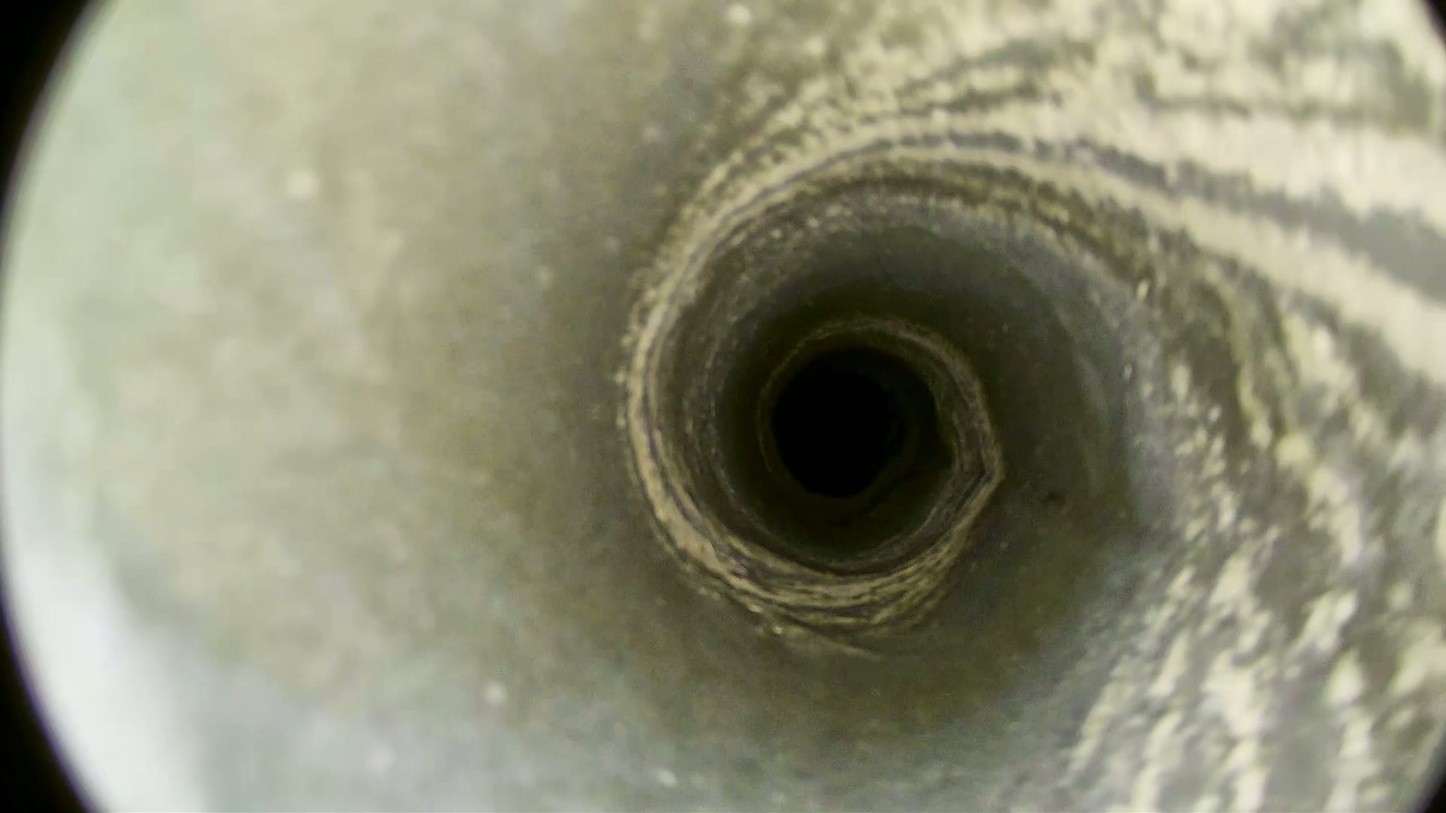hole: (777, 372, 893, 497)
